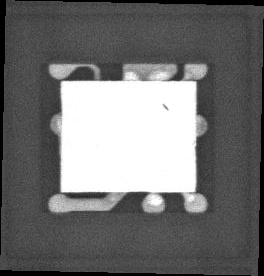DIE_INK: (155, 108, 162, 115)
